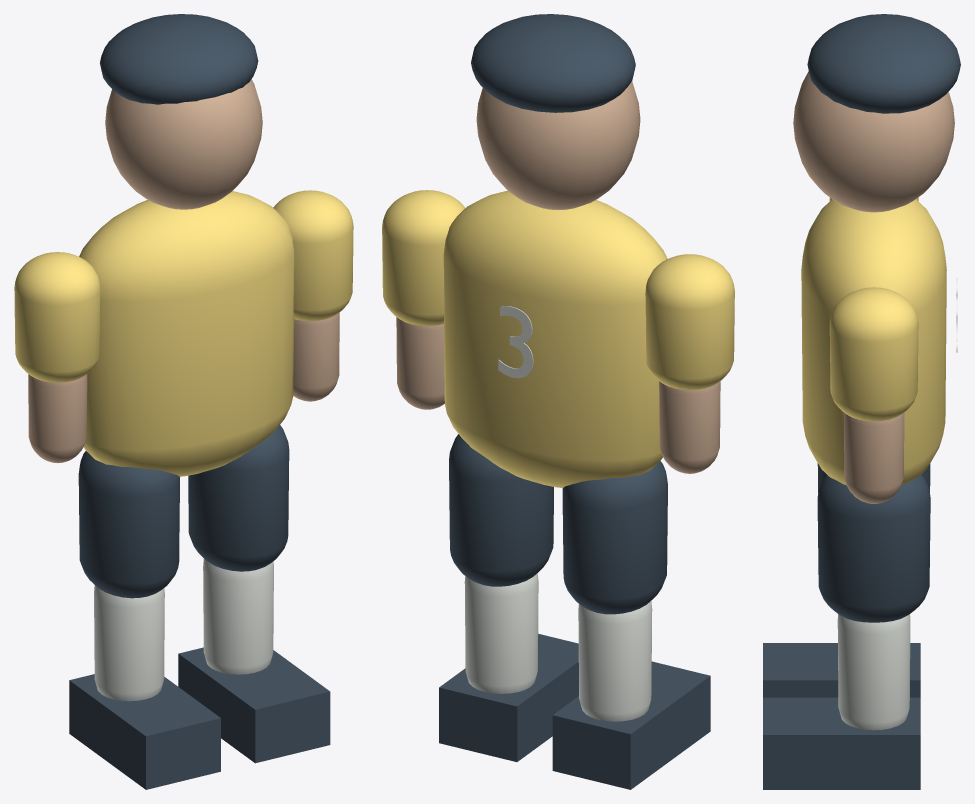
Rendered from Player_Gold.fbx.
The picture shows the model from 3 angles, left to right: view 1: azimuth 30°, elevation 25°; view 2: azimuth 150°, elevation 25°; view 3: azimuth 270°, elevation 25°; orthographic projection. The views are drawn at different scales.
Parts seen in each view (by area): view 1: Jersey, Head, Shorts_Left, Boot_Left, Hair, Boot_Right, Shorts_Right, Sleeve_Left, Sleeve_Right, Sock_Right, Sock_Left, Forearm_Left (+1 smaller); view 2: Jersey, Head, Shorts_Left, Hair, Shorts_Right, Boot_Left, Sleeve_Left, Boot_Right, Sleeve_Right, Sock_Left, Sock_Right, Forearm_Left (+2 smaller); view 3: Jersey, Head, Shorts_Right, Boot_Right, Hair, Sleeve_Right, Sock_Right, Forearm_Right, Boot_Left.
Part boxes in pixels (box(x1,y1,x2,y2)): Jersey: box(79, 191, 294, 476); Head: box(105, 79, 262, 209); Shorts_Left: box(78, 451, 179, 598); Boot_Left: box(69, 674, 220, 789); Hair: box(100, 14, 258, 104); Boot_Right: box(178, 647, 330, 763); Shorts_Right: box(188, 425, 289, 571); Sleeve_Left: box(14, 252, 100, 382); Sleeve_Right: box(273, 190, 353, 320); Sock_Right: box(203, 558, 273, 674); Sock_Left: box(94, 585, 164, 701); Forearm_Left: box(28, 374, 87, 463); Jersey: box(443, 190, 667, 487); Head: box(476, 81, 640, 209); Shorts_Left: box(562, 461, 667, 614); Hair: box(471, 14, 635, 112); Shorts_Right: box(449, 434, 553, 586); Boot_Left: box(552, 661, 710, 789); Sleeve_Left: box(645, 254, 734, 390); Boot_Right: box(439, 633, 578, 761); Sleeve_Right: box(382, 190, 465, 325); Sock_Left: box(578, 601, 652, 721); Sock_Right: box(464, 573, 538, 693); Forearm_Left: box(659, 381, 720, 473); Jersey: box(801, 199, 946, 485); Head: box(793, 71, 954, 212); Shorts_Right: box(817, 474, 930, 622); Boot_Right: box(763, 697, 920, 789); Hair: box(807, 14, 960, 113); Sleeve_Right: box(829, 287, 918, 421); Sock_Right: box(837, 614, 910, 730); Forearm_Right: box(843, 413, 904, 503); Boot_Left: box(763, 643, 920, 697).
Bounding box in the file's own units: 96 × 195 × 49.
